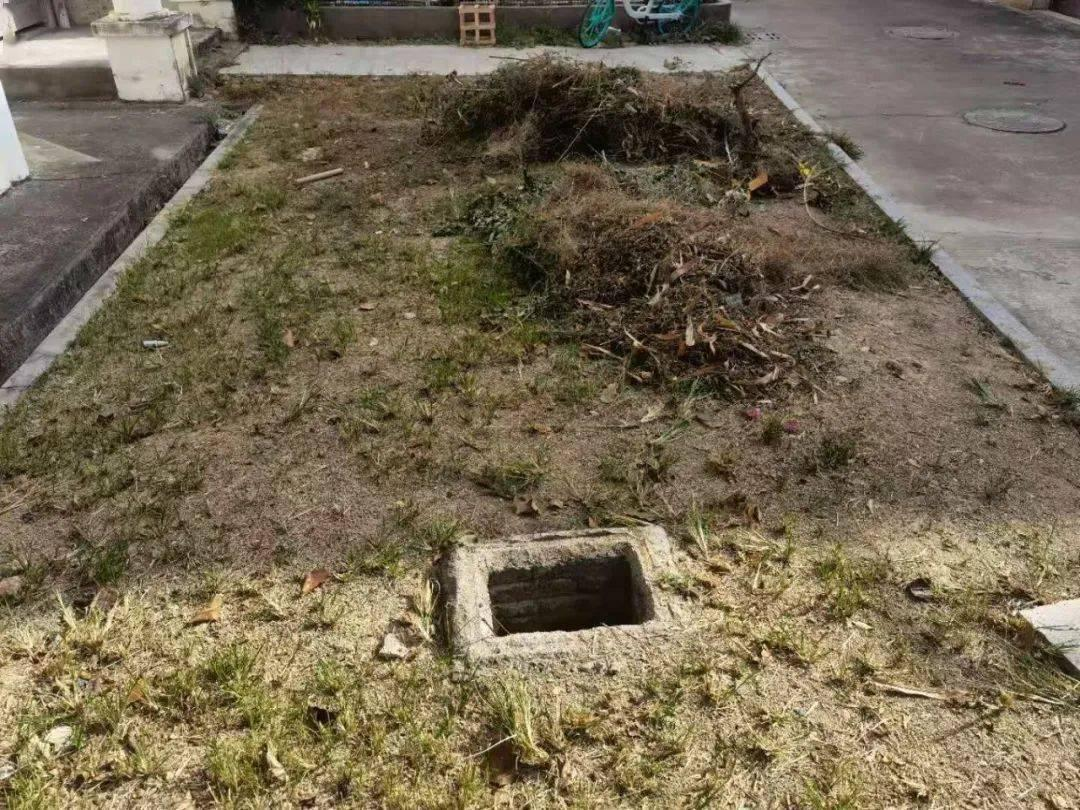wellcover: (418, 518, 690, 642)
